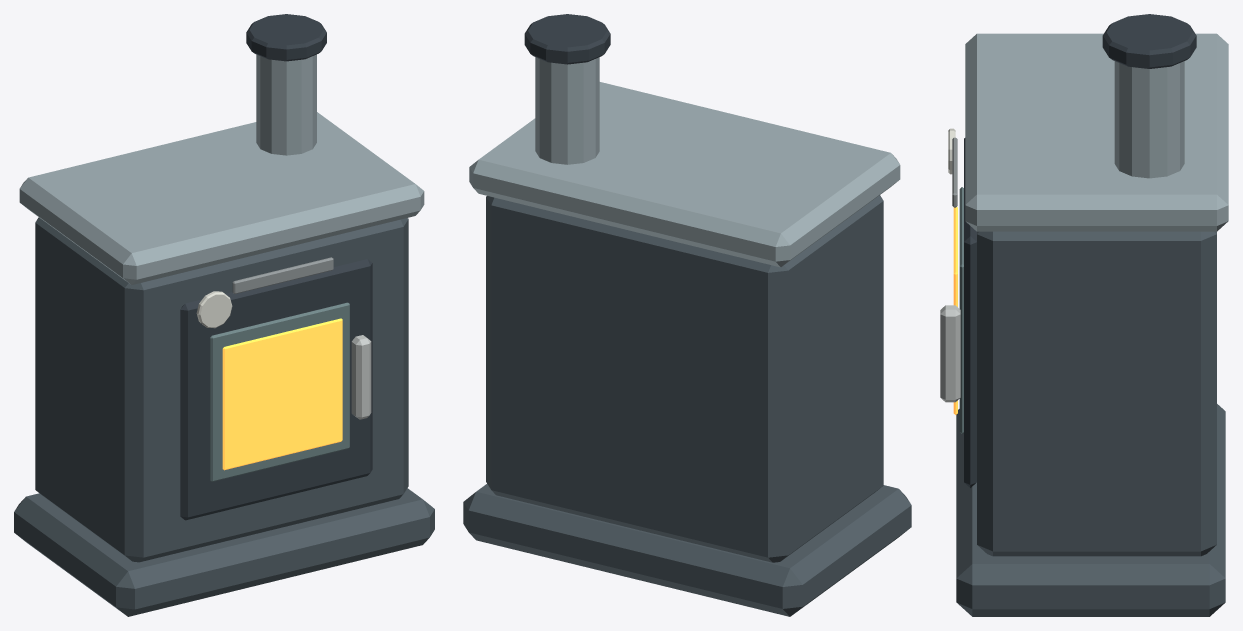
File: FarmSmoker.glb
3 views of the same model, side by side, from view 1: azimuth 30°, elevation 25°; view 2: azimuth 150°, elevation 25°; view 3: azimuth 270°, elevation 25° (orthographic). The views are drawn at different scales.
Visible parts, largest first — view 1: SmokerBody, SmokerTop, SmokerBase, SmokerDoor, SmokerWorkingGlowMesh, SmokerDoorInset, Chimney, ChimneyCap, SmokerHandle, SmokeStripe, TempGauge; view 2: SmokerBody, SmokerTop, SmokerBase, Chimney, ChimneyCap; view 3: SmokerBody, SmokerTop, SmokerBase, Chimney, ChimneyCap, SmokerDoor, SmokerHandle, SmokerDoorInset, SmokerWorkingGlowMesh, SmokeStripe.
Boxes of the visible parts, left/top/right/bottom form: SmokerBody: left=35, top=217, right=408, bottom=562; SmokerTop: left=19, top=112, right=424, bottom=284; SmokerBase: left=14, top=488, right=434, bottom=616; SmokerDoor: left=180, top=259, right=372, bottom=520; SmokerWorkingGlowMesh: left=222, top=318, right=342, bottom=470; SmokerDoorInset: left=210, top=302, right=349, bottom=481; Chimney: left=256, top=54, right=316, bottom=155; ChimneyCap: left=246, top=14, right=326, bottom=61; SmokerHandle: left=351, top=335, right=371, bottom=419; SmokeStripe: left=232, top=257, right=333, bottom=294; TempGauge: left=196, top=291, right=232, bottom=328; SmokerBody: left=486, top=195, right=883, bottom=562; SmokerTop: left=469, top=82, right=900, bottom=267; SmokerBase: left=463, top=484, right=911, bottom=616; Chimney: left=535, top=57, right=599, bottom=164; ChimneyCap: left=524, top=14, right=610, bottom=64; SmokerBody: left=977, top=231, right=1216, bottom=556; SmokerTop: left=965, top=33, right=1228, bottom=231; SmokerBase: left=956, top=404, right=1225, bottom=616; Chimney: left=1114, top=61, right=1184, bottom=178; ChimneyCap: left=1102, top=14, right=1196, bottom=68; SmokerDoor: left=964, top=138, right=976, bottom=487; SmokerHandle: left=940, top=305, right=960, bottom=402; SmokerDoorInset: left=959, top=187, right=963, bottom=433; SmokerWorkingGlowMesh: left=953, top=207, right=957, bottom=414; SmokeStripe: left=952, top=137, right=957, bottom=207.
Bounding box in the file's own units: 1.46 × 2.07 × 0.985.
